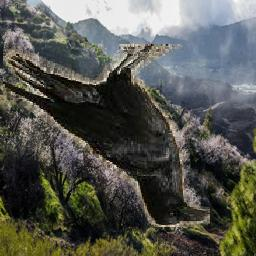Crow: (4, 45, 211, 228)
